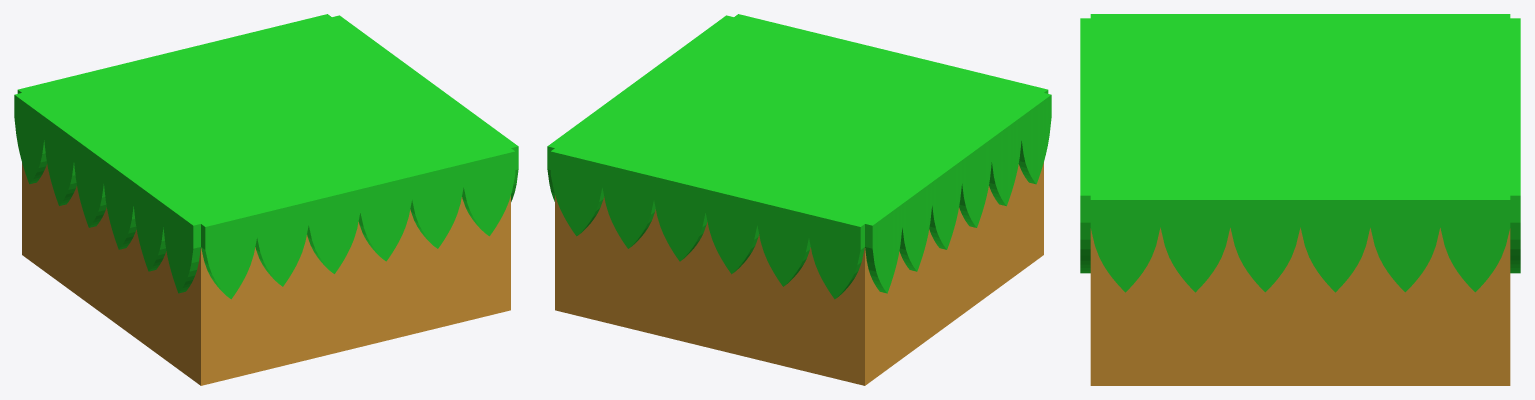
3 renders of one model, left to right at view 1: azimuth 30°, elevation 25°; view 2: azimuth 150°, elevation 25°; view 3: azimuth 270°, elevation 25°, orthographic. The views are drawn at different scales.
Visible parts, largest first — view 1: Grassfield, Dirtblock; view 2: Grassfield, Dirtblock; view 3: Grassfield, Dirtblock.
Boxes of the visible parts, left/top/right/bottom form: Grassfield: left=14, top=14, right=518, bottom=299; Dirtblock: left=22, top=163, right=510, bottom=385; Grassfield: left=547, top=14, right=1051, bottom=299; Dirtblock: left=555, top=162, right=1043, bottom=385; Grassfield: left=1080, top=14, right=1520, bottom=292; Dirtblock: left=1090, top=227, right=1510, bottom=385.
Bounding box in the file's own units: 210 × 100 × 210.
